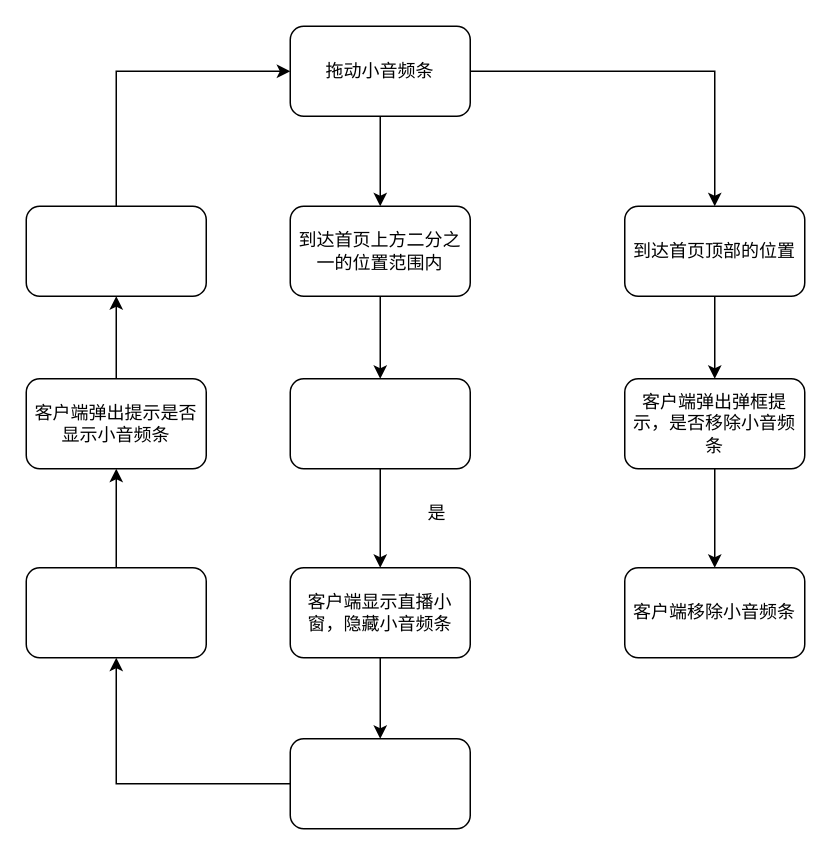
Image size: 831x855. Some labels were removed from this diagram. The centre of each missing label's shape, as x and y in pixels:
"客户端弹出提示弹框是否转换为直播小窗" goes at point 379,423.
"客户端显示小音频条，隐藏直播小窗" goes at point 115,250.
"拖动直播小窗到，底部选项栏位置" goes at point 115,612.
"显示直播小窗" goes at point 379,783.
